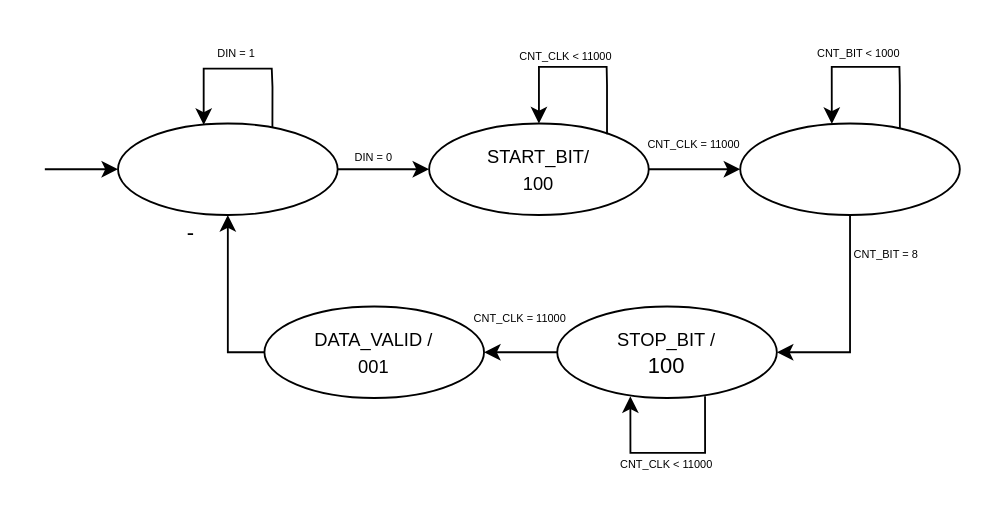
Some shapes in this 992 by 505 pixel diagram are drawn without their labels. The centre of each missing label's shape, as x and y in pixels:
GET_DATA / 110: the point at 849,168
WAIT_FOR_START / 000: the point at 227,168
